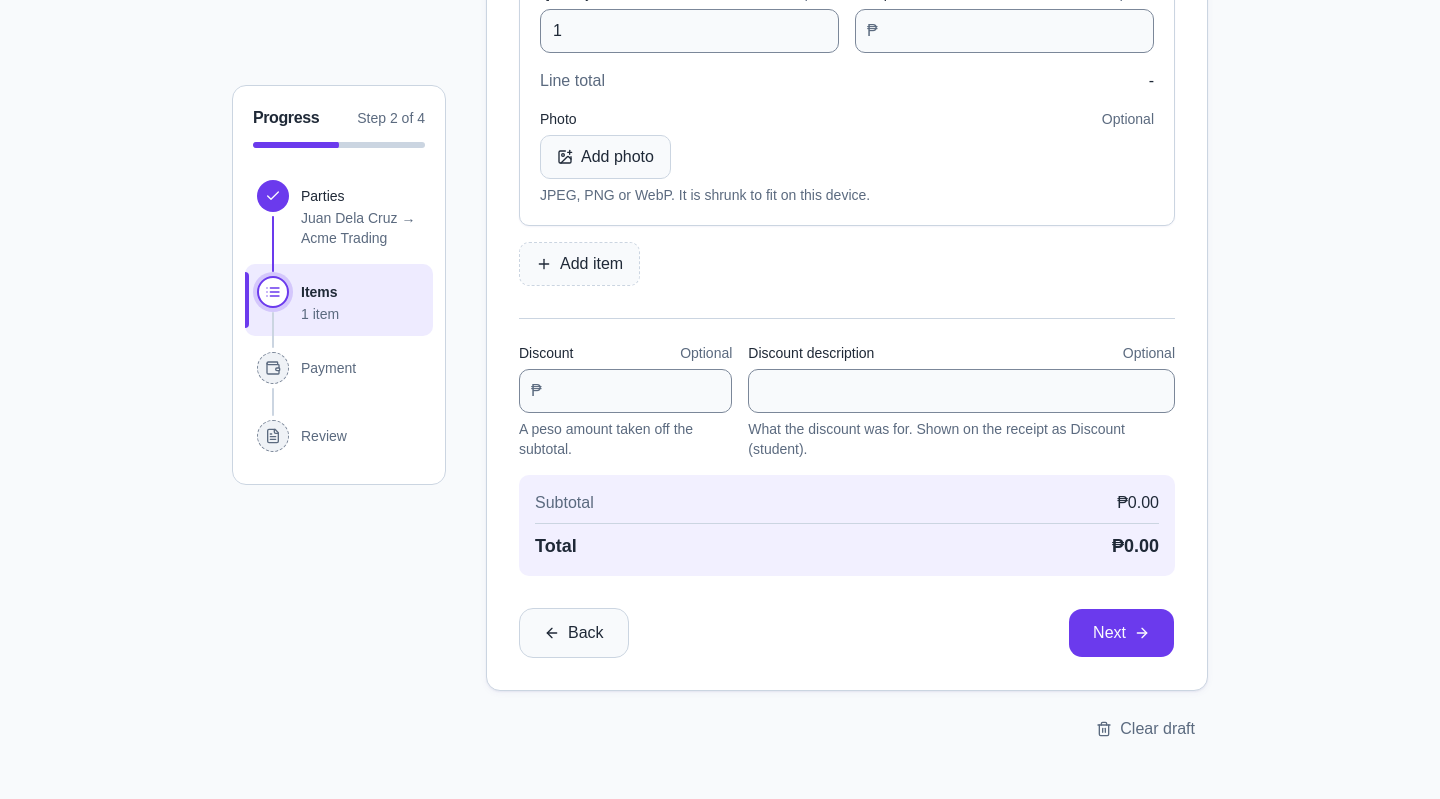
Scenario: Items step › will not advance with no valid item
The image size is (1440, 799).
(page scrolled)
Click the button "Next": (1122, 633) [1068, 608, 1175, 658]
(page scrolled)
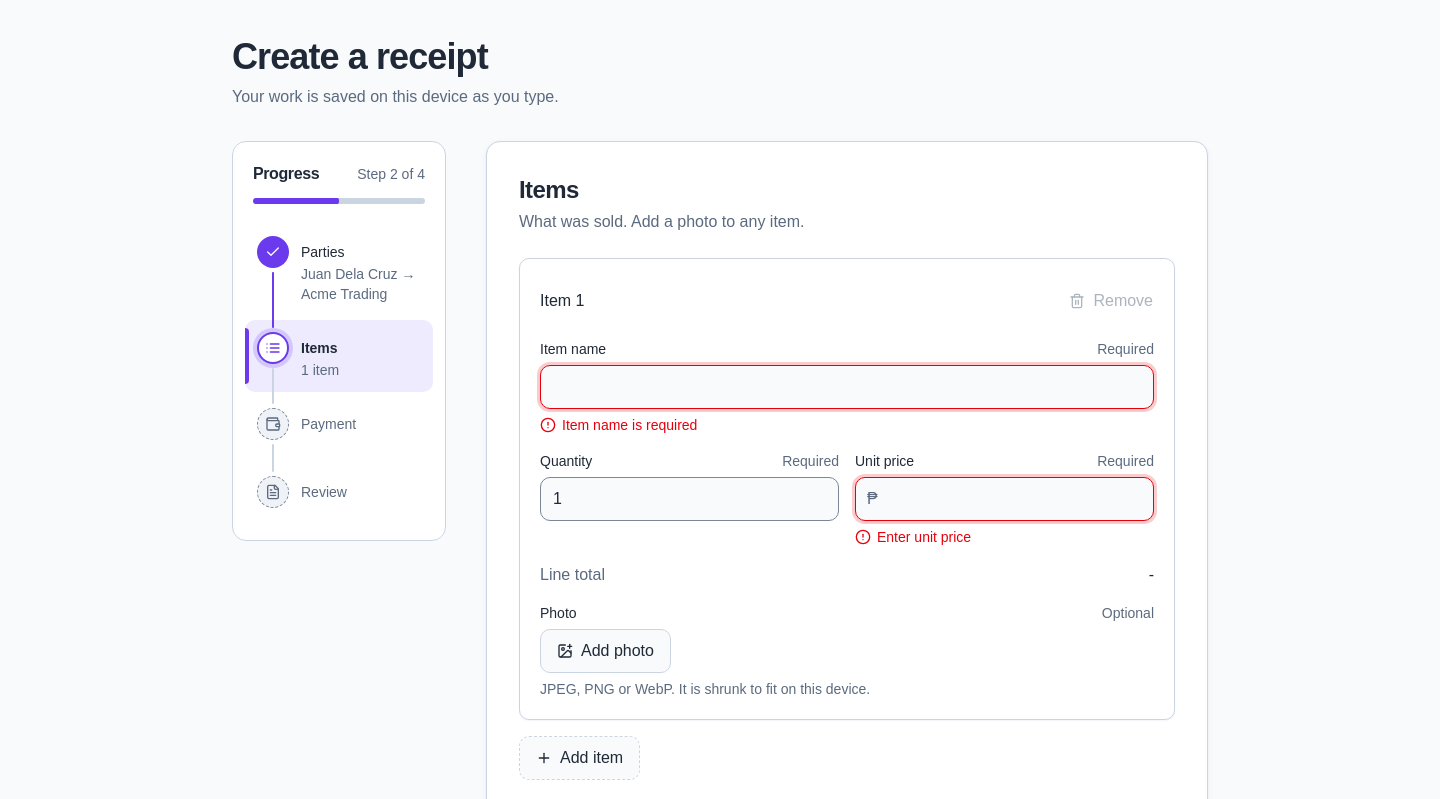
Check: the heading "Items" is shown, box [519, 176, 579, 203]
Check: the text "Item name is required" is shown, box [562, 415, 697, 435]
